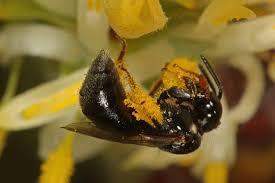Braunsapis: (63, 34, 232, 160)
